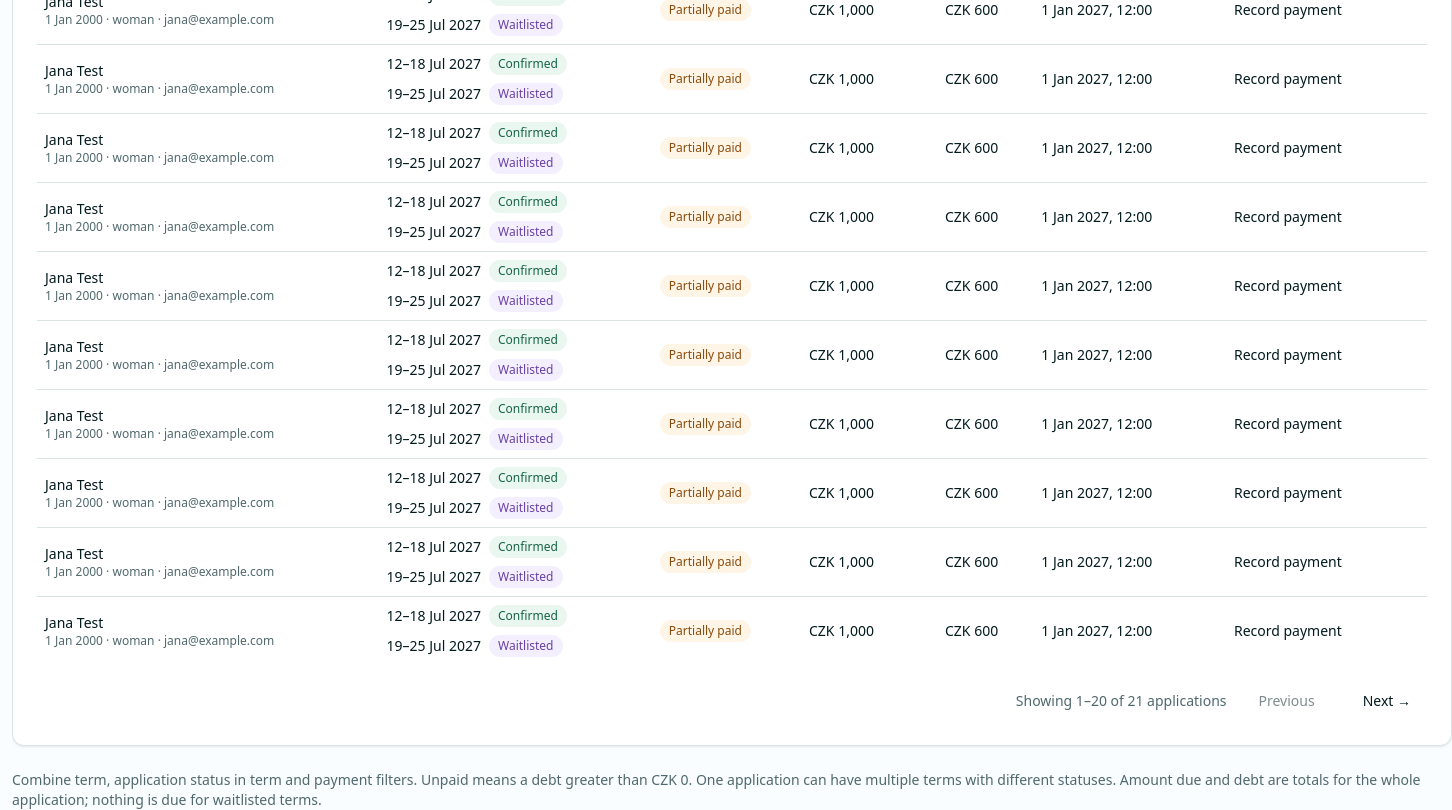
Test: ApplicationsPage › starts at the first page of search results
(page scrolled)
Step 1. Click the button "Next →" → (1387, 700), box [1347, 680, 1427, 720]
(page scrolled)
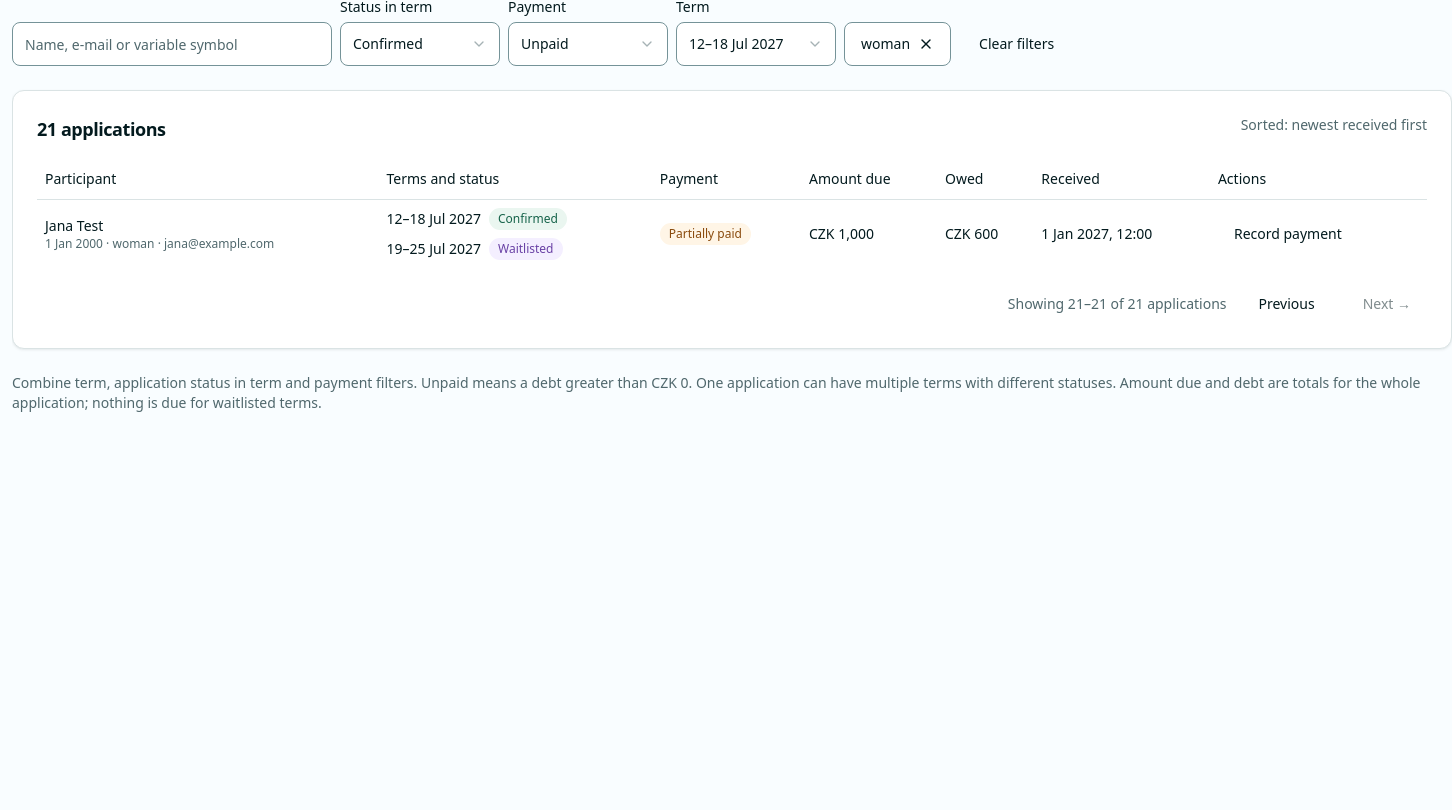
Result: the text "Showing 21–21 of 21 applications" is shown at [1008, 294, 1226, 314]
Step 2. Type "jana" into the search field → (172, 44), box [12, 22, 332, 66]
(page scrolled)
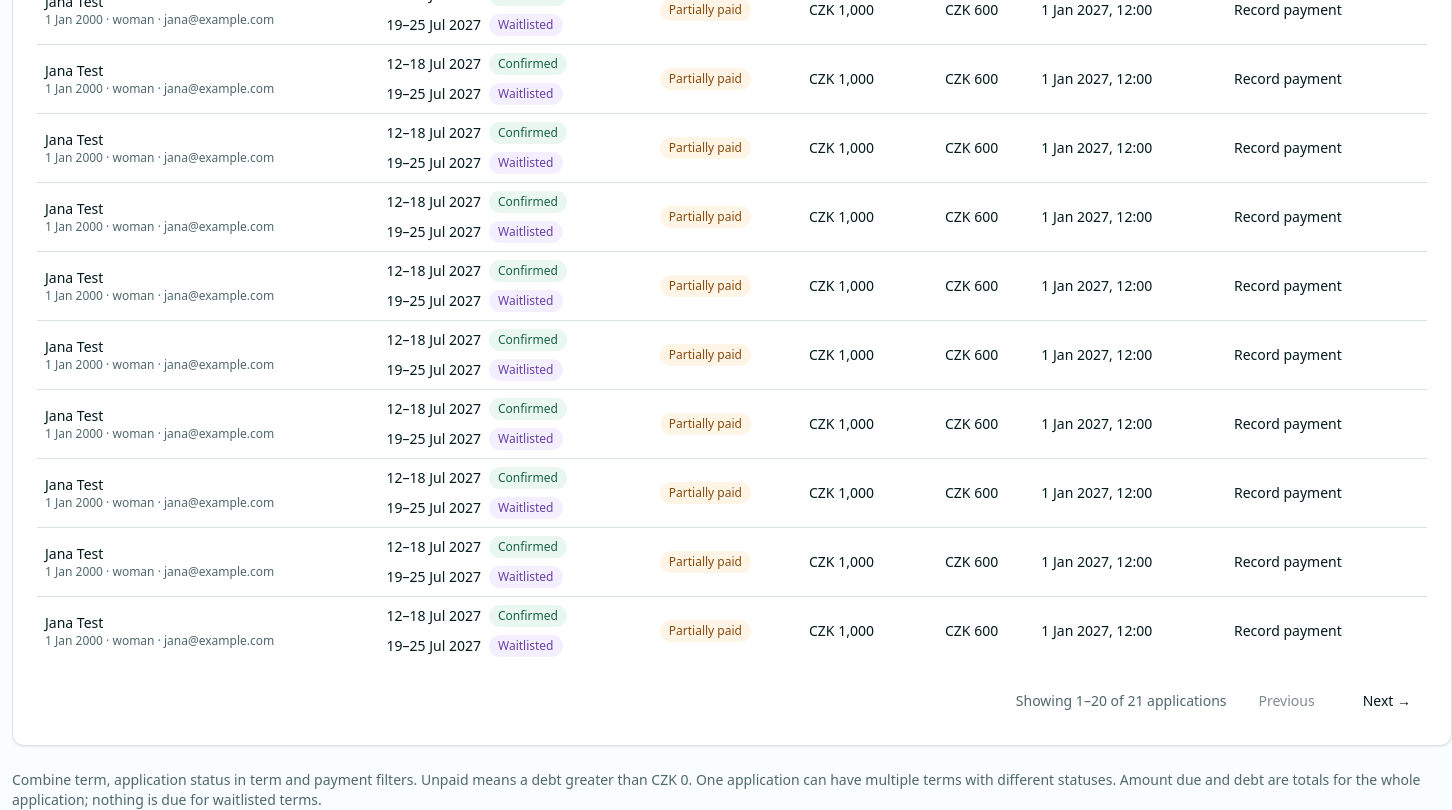
Result: the text "Showing 1–20 of 21 applications" is shown at [1016, 690, 1226, 710]
